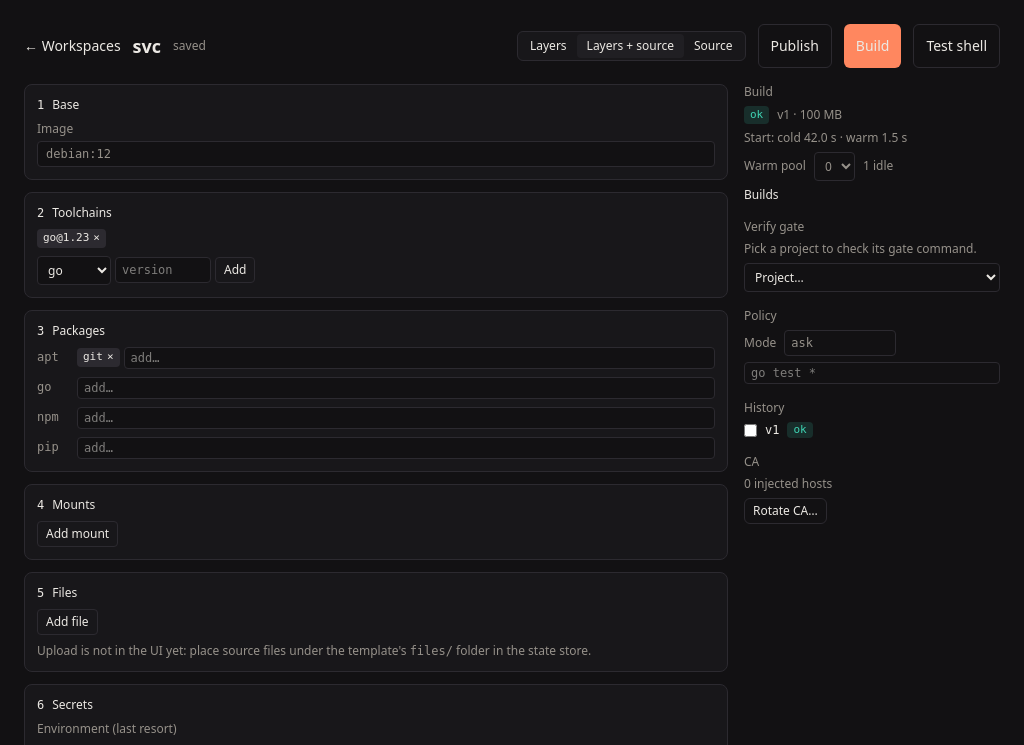
Designer › checks the verify gate against a picked project, using its build and test commands
Check: the element with test id "side-gate" shows "Pick a project", box [744,240,977,257]
Select "p" in the dropdown named "Gate project" at [872, 277], box [744,263,1000,292]
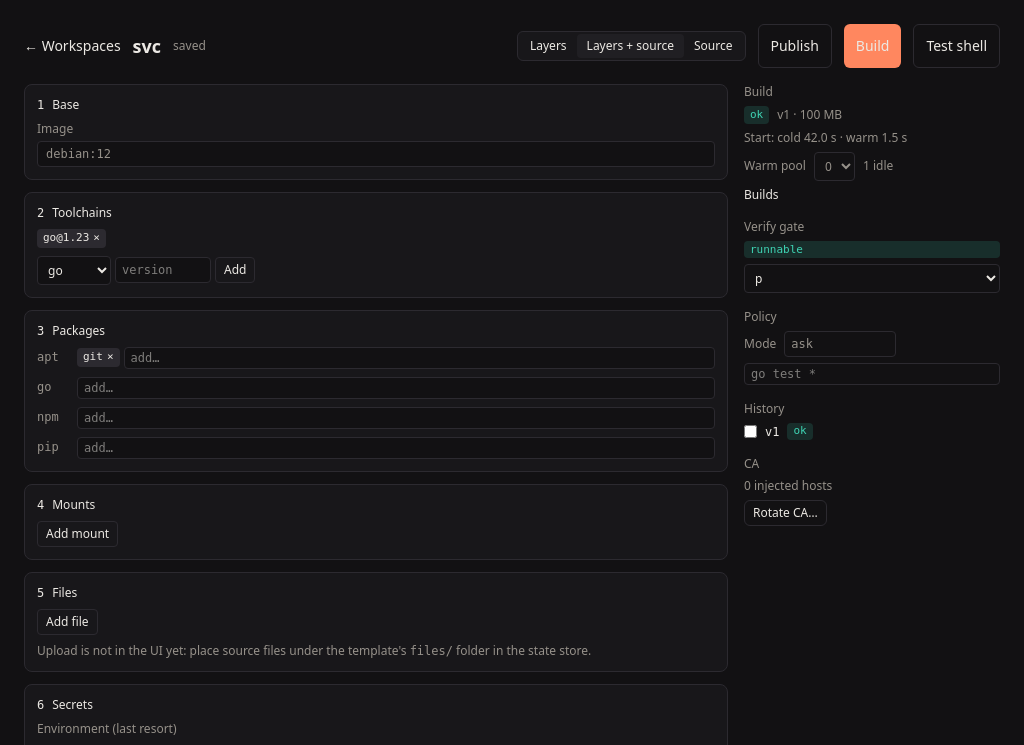
Check: the text "runnable" is shown, box [744,241,1000,258]
Select "Project…" in the dropdown named "Gate project" at [872, 279], box [744,264,1000,293]
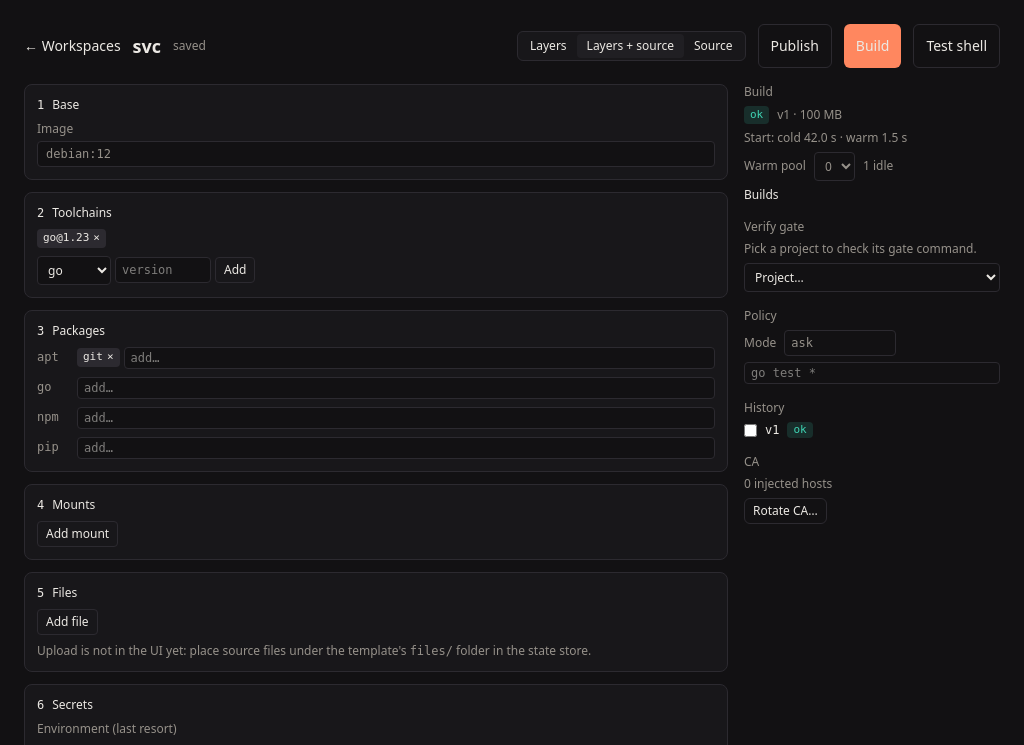
Select "p" in the dropdown named "Gate project" at [872, 277], box [744,263,1000,292]
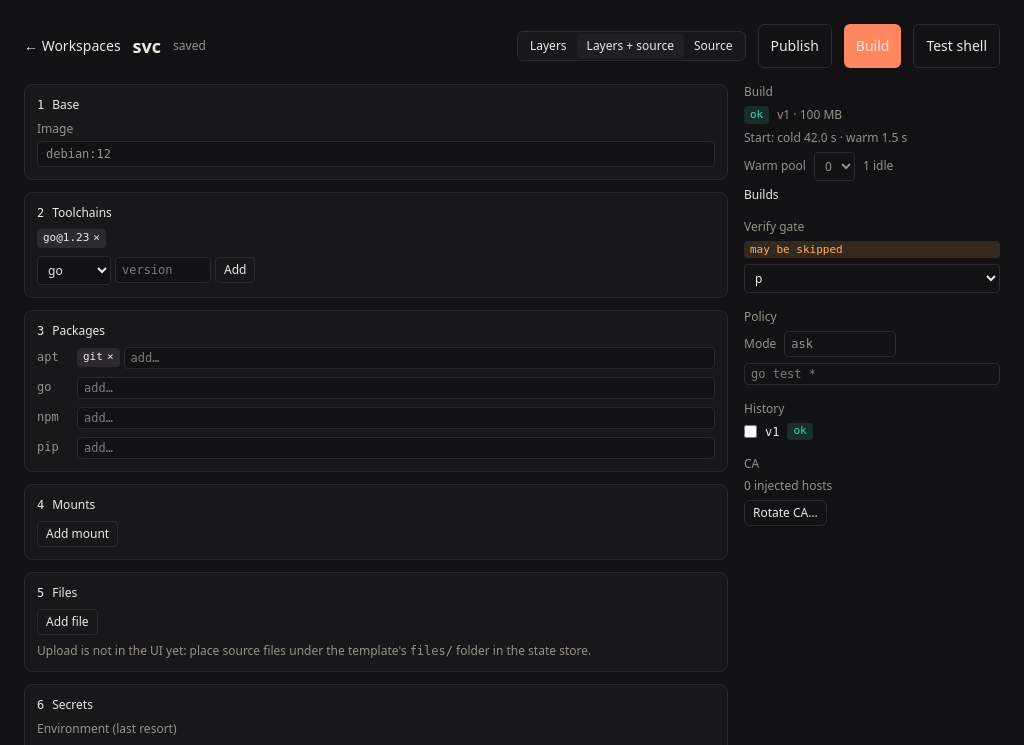
Check: the text "may be skipped" is shown, box [744,241,1000,258]
